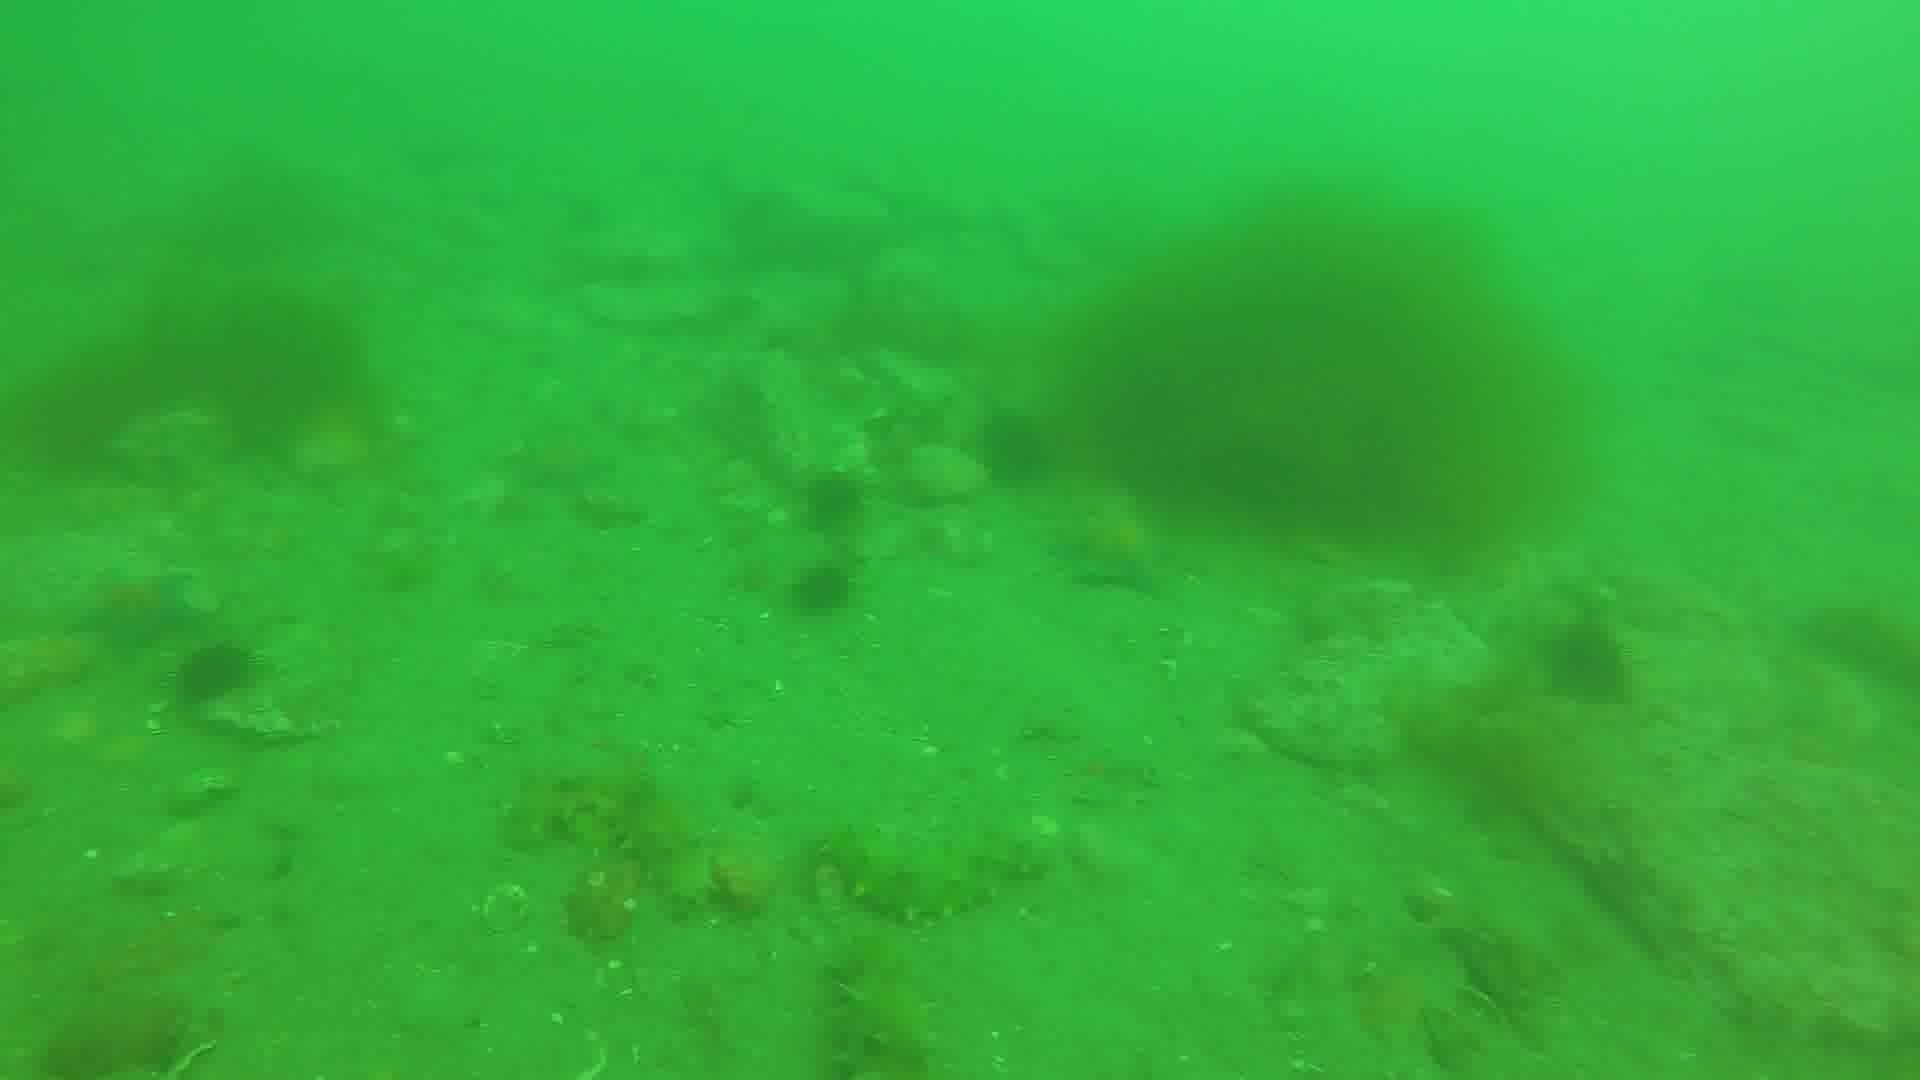echinus: (1538, 618, 1636, 709), (971, 406, 1056, 491), (171, 638, 261, 709), (795, 467, 870, 535), (786, 559, 858, 622)
holothurian: (508, 748, 720, 913), (814, 818, 1048, 928), (820, 938, 942, 1079)
starfish: (1042, 496, 1178, 600), (66, 563, 202, 659), (505, 425, 621, 498)
